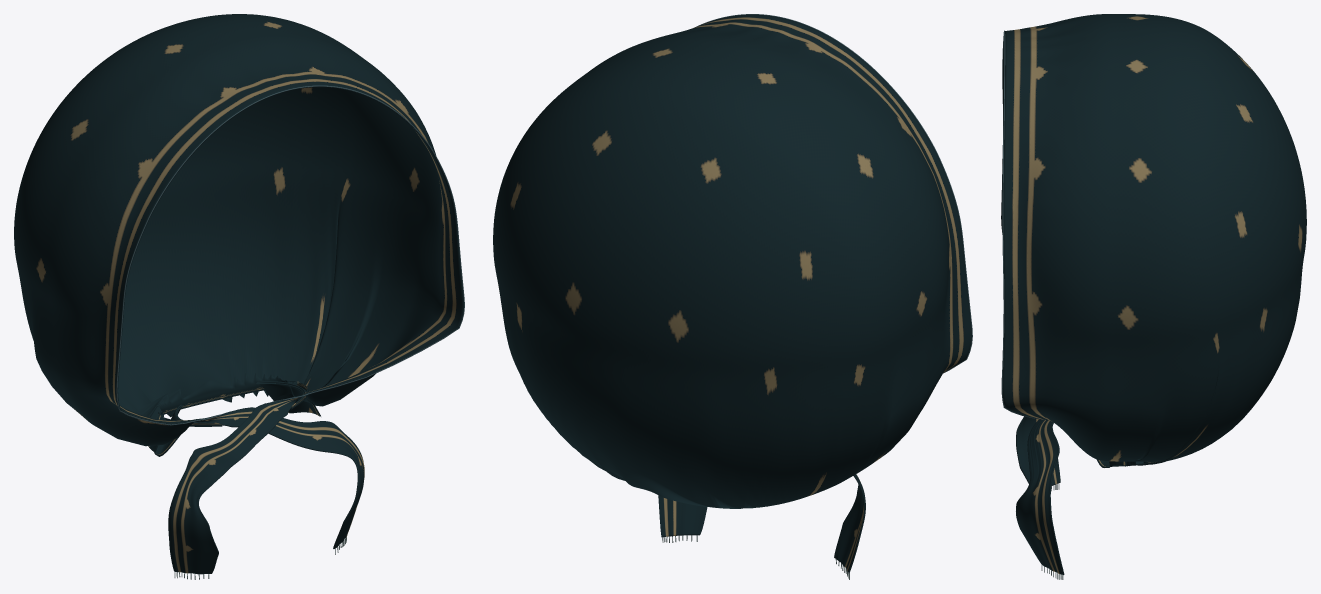
Rendered from Feminine-space-buns-open-pashmina250-headgear.glb.
3 renders of one model, left to right at view 1: azimuth 30°, elevation 25°; view 2: azimuth 150°, elevation 25°; view 3: azimuth 270°, elevation 25°, orthographic. The views are drawn at different scales.
Parts seen in each view (by area): view 1: 226 headgear / Headwear / continuous woven pashmina239, 226 headgear / Headwear / face edge239; view 2: 226 headgear / Headwear / continuous woven pashmina239, 226 headgear / Headwear / face edge239; view 3: 226 headgear / Headwear / continuous woven pashmina239, 226 headgear / Headwear / face edge239.
Part boxes in pixels (<box>): 226 headgear / Headwear / continuous woven pashmina239: <box>14,14,463,574</box>; 226 headgear / Headwear / face edge239: <box>116,85,464,425</box>; 226 headgear / Headwear / continuous woven pashmina239: <box>493,14,971,573</box>; 226 headgear / Headwear / face edge239: <box>694,14,972,373</box>; 226 headgear / Headwear / continuous woven pashmina239: <box>1001,14,1306,575</box>; 226 headgear / Headwear / face edge239: <box>1001,30,1045,419</box>.
Bounding box in the file's own units: 1.07 × 1.38 × 0.7556.
3 materials, 1 textured.
